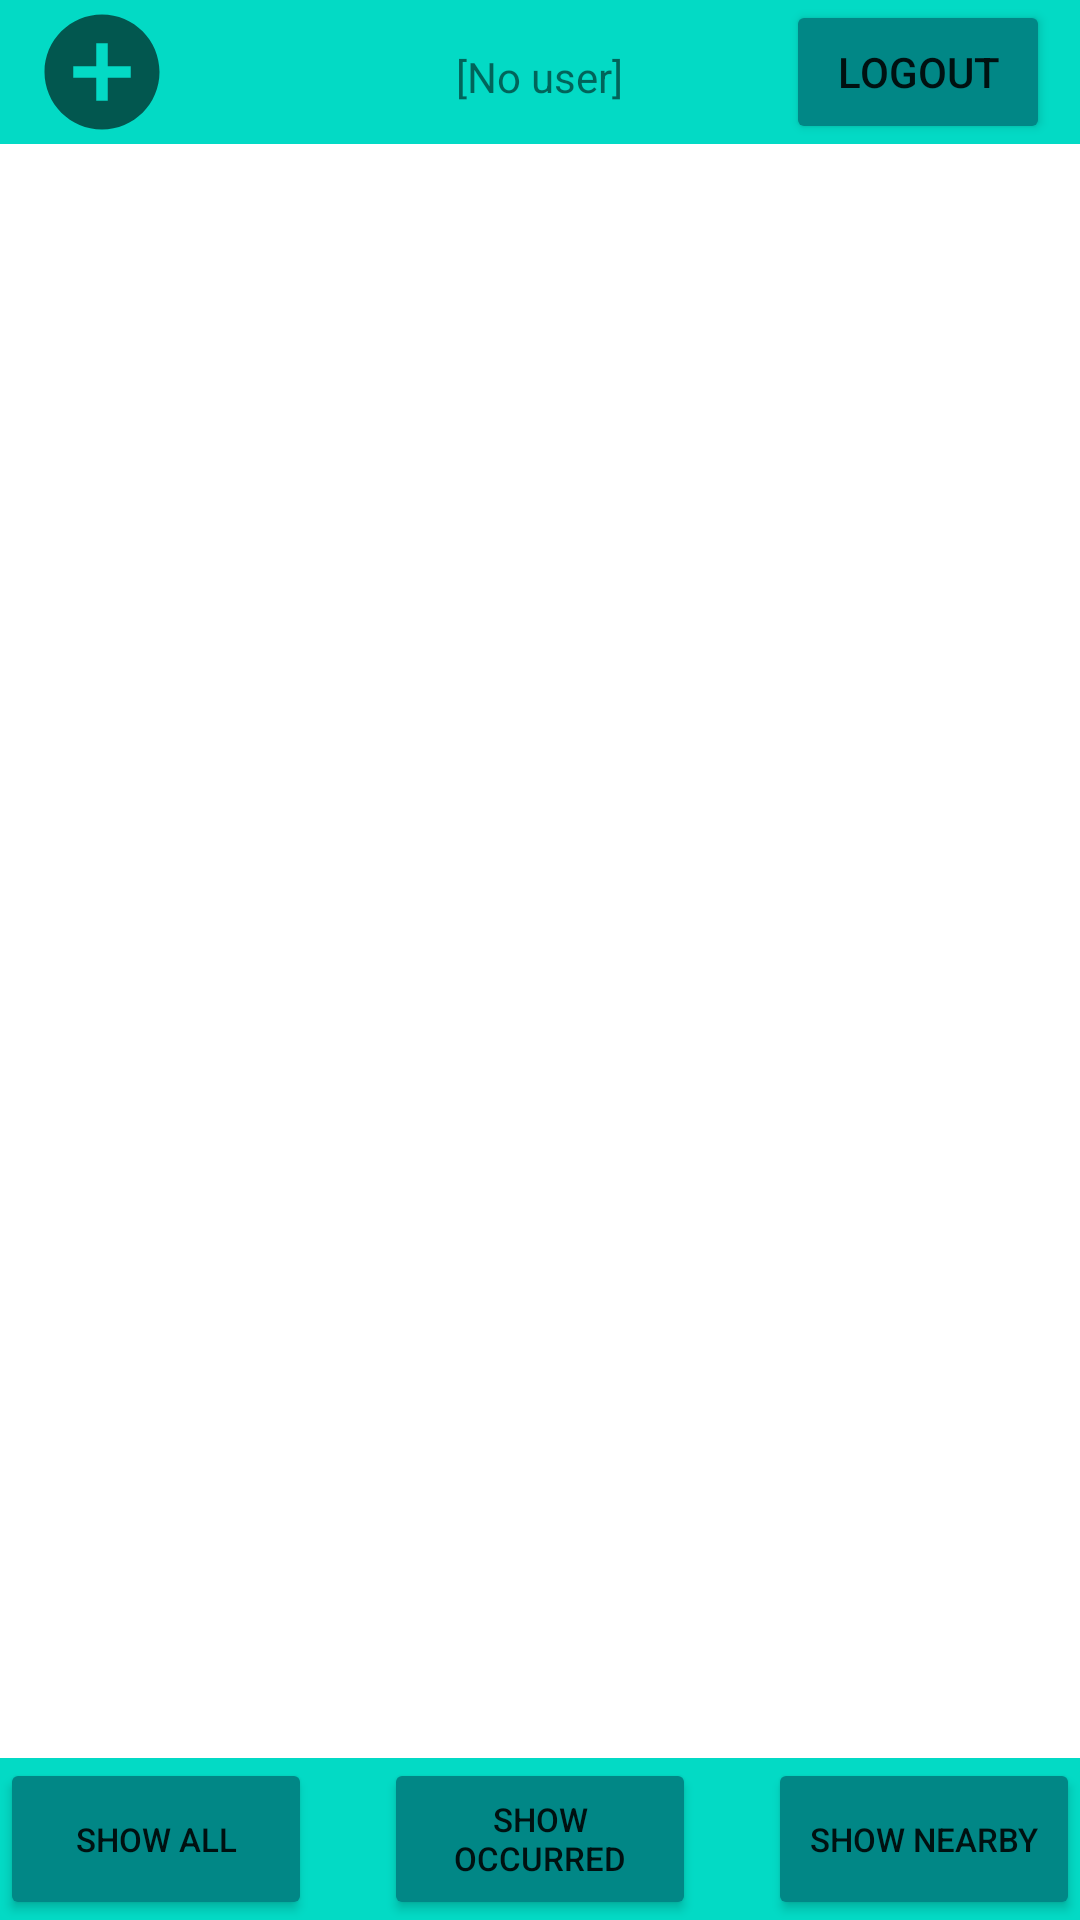

Screen size 1080px×1920px. Icon name, then its center in pixels as [x,y]:
add circle: [102,72]
